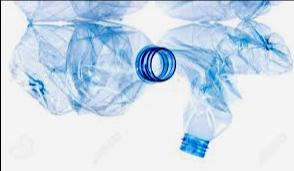Plastic: (156, 2, 291, 161), (8, 19, 174, 119)
